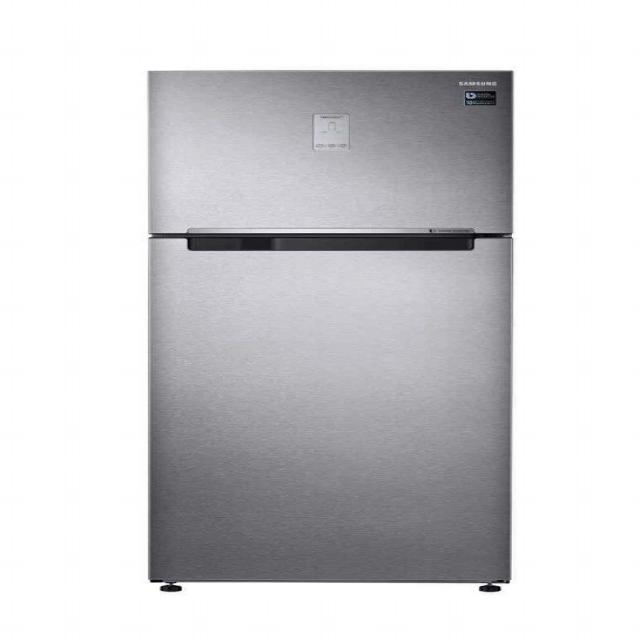refrigerator: (144, 66, 516, 583)
